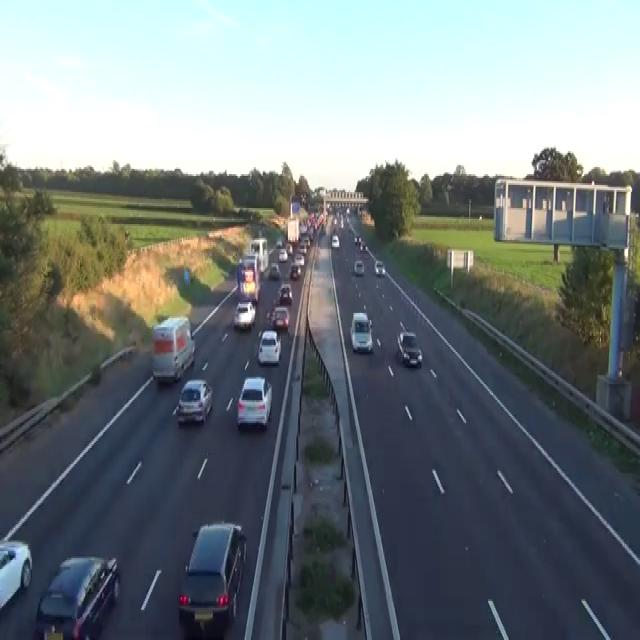Car: (177, 521, 247, 629), (33, 555, 119, 638), (0, 539, 32, 615), (236, 375, 272, 429), (176, 379, 213, 425), (350, 311, 373, 354), (396, 331, 422, 368), (257, 329, 281, 364), (233, 300, 255, 329), (270, 306, 290, 330), (276, 283, 293, 304), (374, 260, 385, 276), (269, 263, 280, 279), (290, 263, 301, 279), (354, 258, 364, 274), (278, 247, 288, 261), (294, 252, 304, 265), (183, 266, 190, 284), (331, 235, 339, 249), (286, 242, 293, 254), (298, 244, 306, 254), (300, 222, 307, 233), (359, 240, 365, 251), (275, 238, 282, 247), (354, 234, 361, 243), (304, 237, 310, 247), (340, 217, 344, 227), (332, 215, 336, 224), (346, 206, 349, 215)
Truck: (151, 315, 195, 382), (236, 252, 260, 304), (249, 236, 268, 272), (286, 215, 300, 244)
